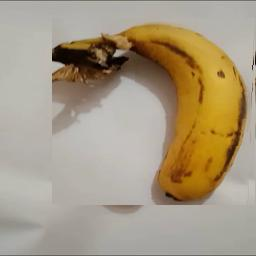Banana Semifresh: (53, 19, 256, 206)
